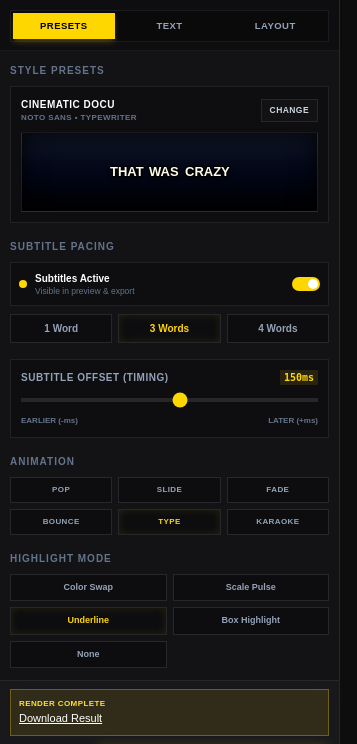
Scenario: SidebarSettings Component › renders standard text background options (None, Dark Box, Blur Pill)
This screenshot has width=357, height=744.
Click the button with class "tab-btn" showing "Text": (170, 26) 119,13 -> 220,39
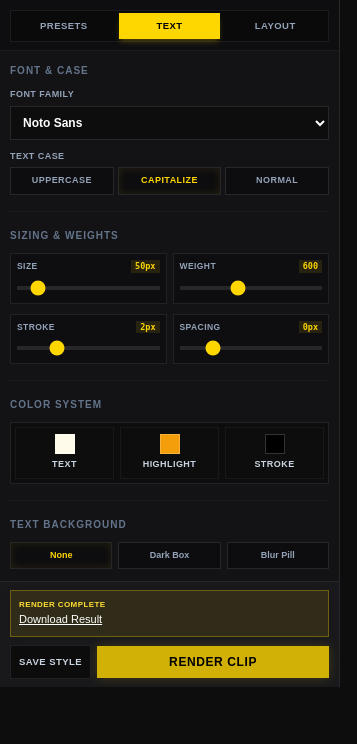
Result: the text "Text Background" is shown at 10,517 -> 127,532
Result: the text "Dark Box" is shown at 118,542 -> 221,569
Result: the text "Blur Pill" is shown at 227,542 -> 329,569
